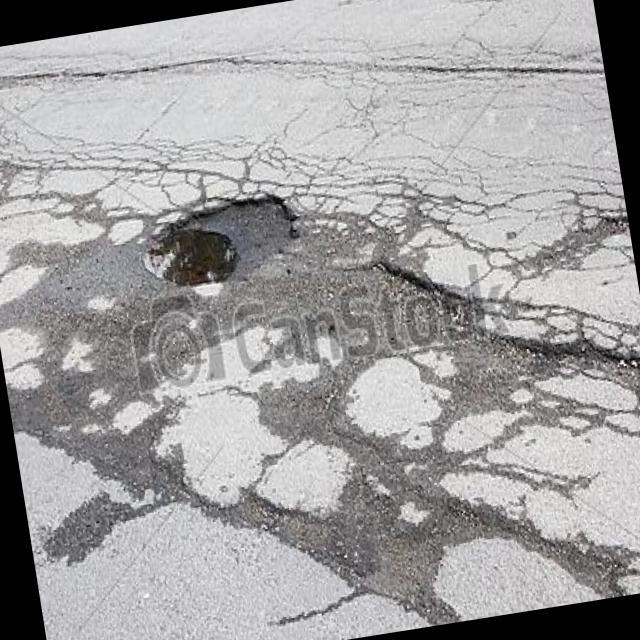Pothole: (314, 234, 498, 413), (132, 167, 312, 304)
